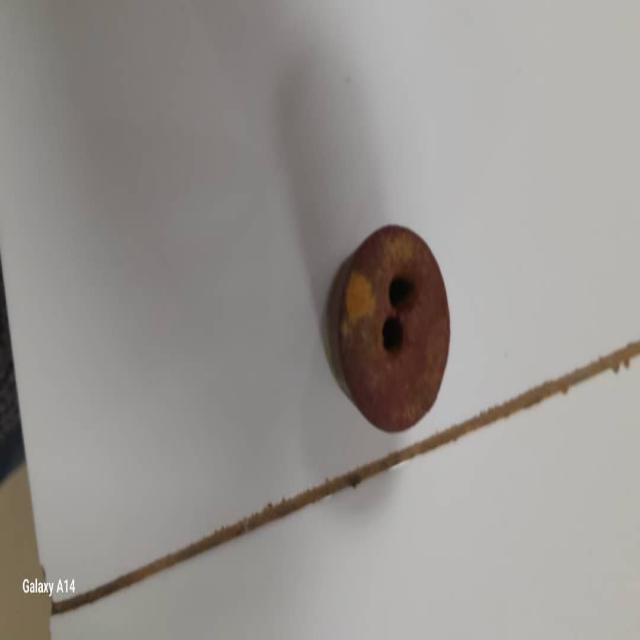Stopper: (318, 222, 458, 438)
